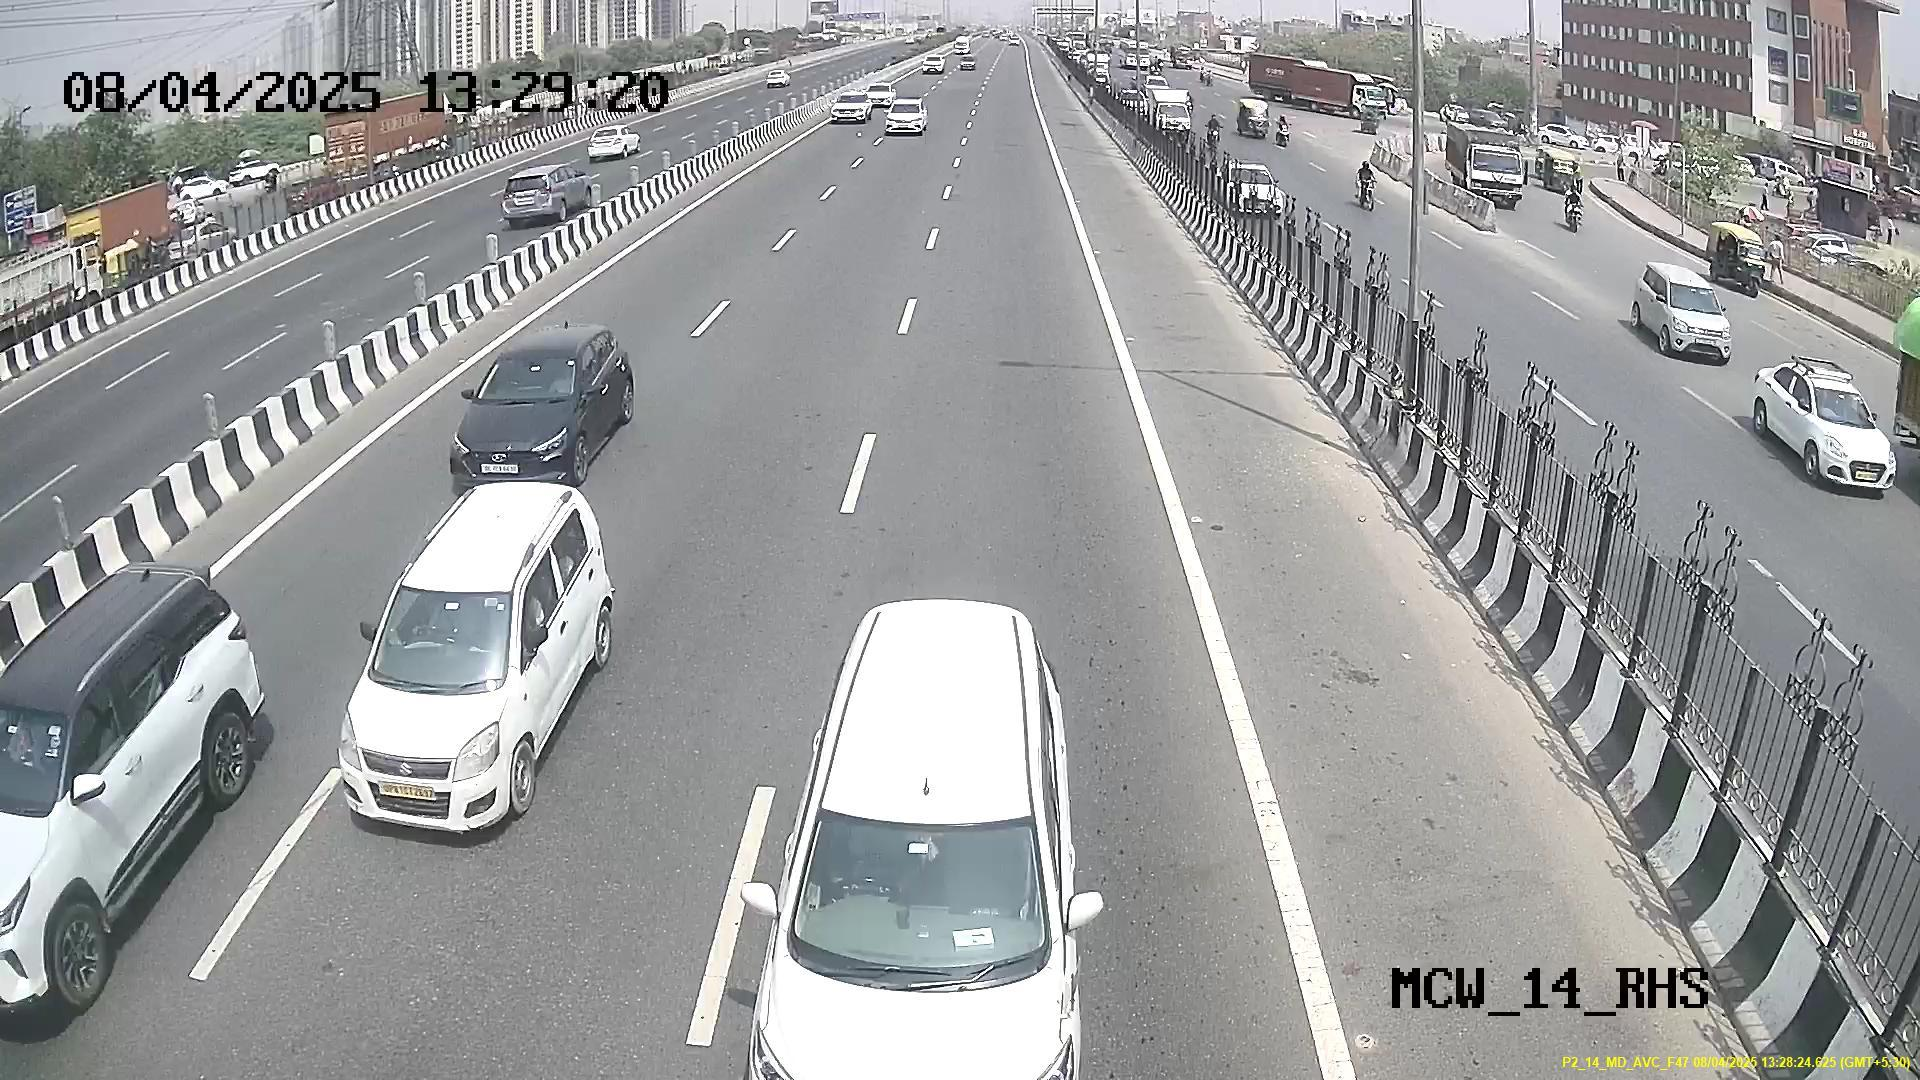car: (330, 541, 562, 843), (435, 343, 604, 487)
